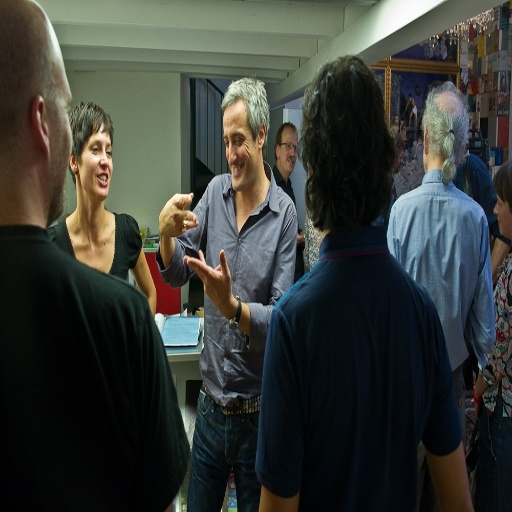hand: (182, 249, 232, 315), (150, 188, 193, 254), (297, 229, 307, 245), (473, 402, 479, 420)
